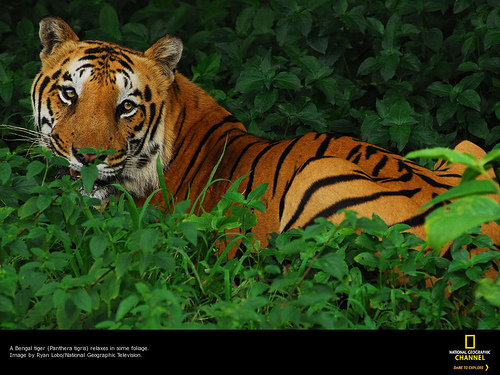Tigre: (22, 18, 450, 265)
